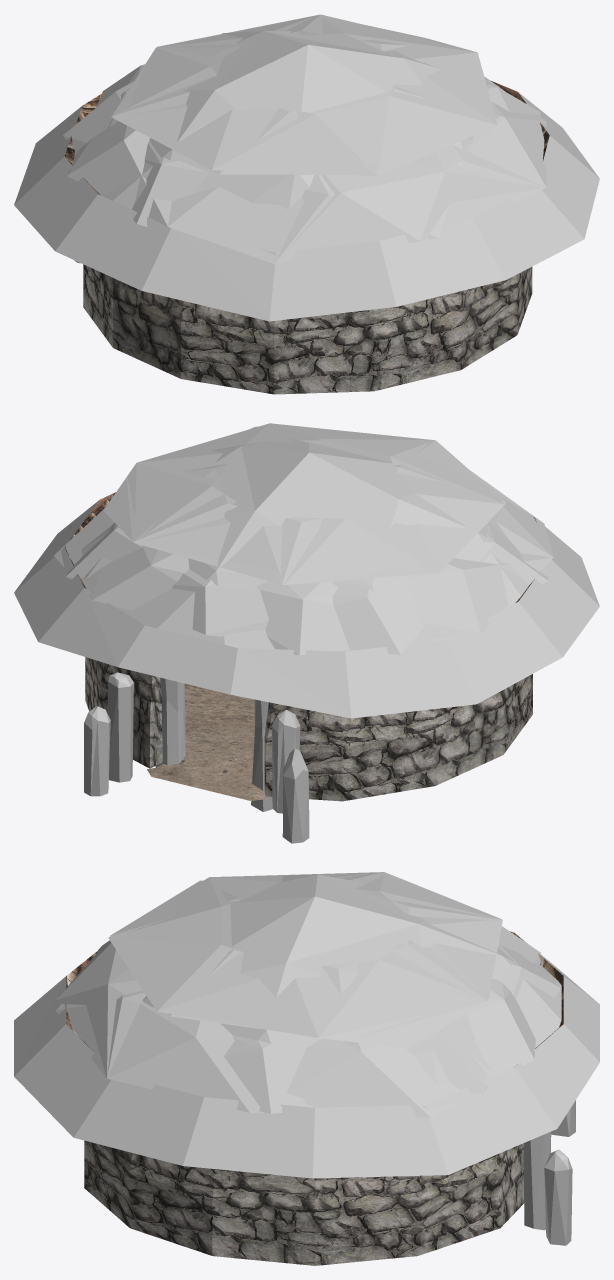
The model's file is RoundHut_4_LOD3.fbx.
3 views of the same model, one above another, from view 1: azimuth 30°, elevation 25°; view 2: azimuth 150°, elevation 25°; view 3: azimuth 270°, elevation 25° (orthographic). The views are drawn at different scales.
Parts seen in each view (by area): view 1: Alpha, Stone, Roof; view 2: Alpha, Stone, Wood, Ground; view 3: Alpha, Stone, Wood, Roof.
Part boxes in pixels (x1,y1,x2,y2): Alpha: (14,14,599,321); Stone: (83,264,532,394); Roof: (64,81,549,195); Alpha: (14,423,599,718); Stone: (85,657,532,801); Wood: (84,672,309,843); Ground: (147,683,267,800); Alpha: (14,872,599,1178); Stone: (84,1140,524,1265); Wood: (523,1100,575,1245); Roof: (66,931,563,1065).
Size of the model in its own units: 1169 by 1110 by 616.
